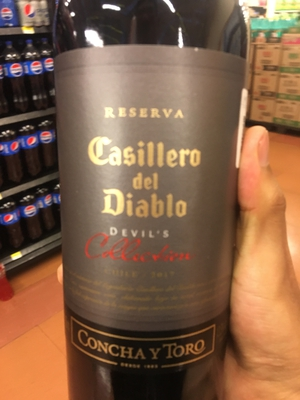casillero del diablo devils collection rojo: (53, 6, 246, 400)
